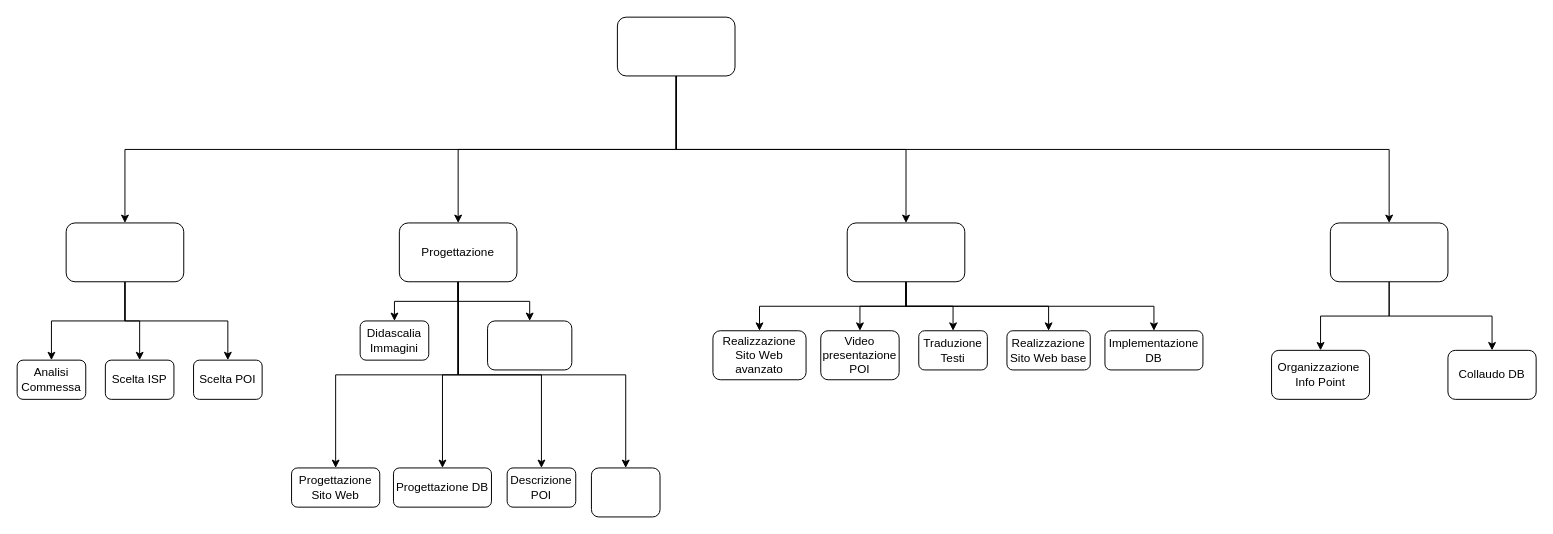
This 1553x534 diagram has some shape labels left out. Each missing label, with the centre of its shape:
"Avvio" goes at pixel 124 252.
"Chiusura" goes at pixel 1388 252.
"Definizione Piani Tariffari" goes at pixel 625 492.
"POI WIFI" goes at pixel 675 46.
"Progettazione Schema di Rete" goes at pixel 529 345.
"Realizzazione" goes at pixel 905 252.
